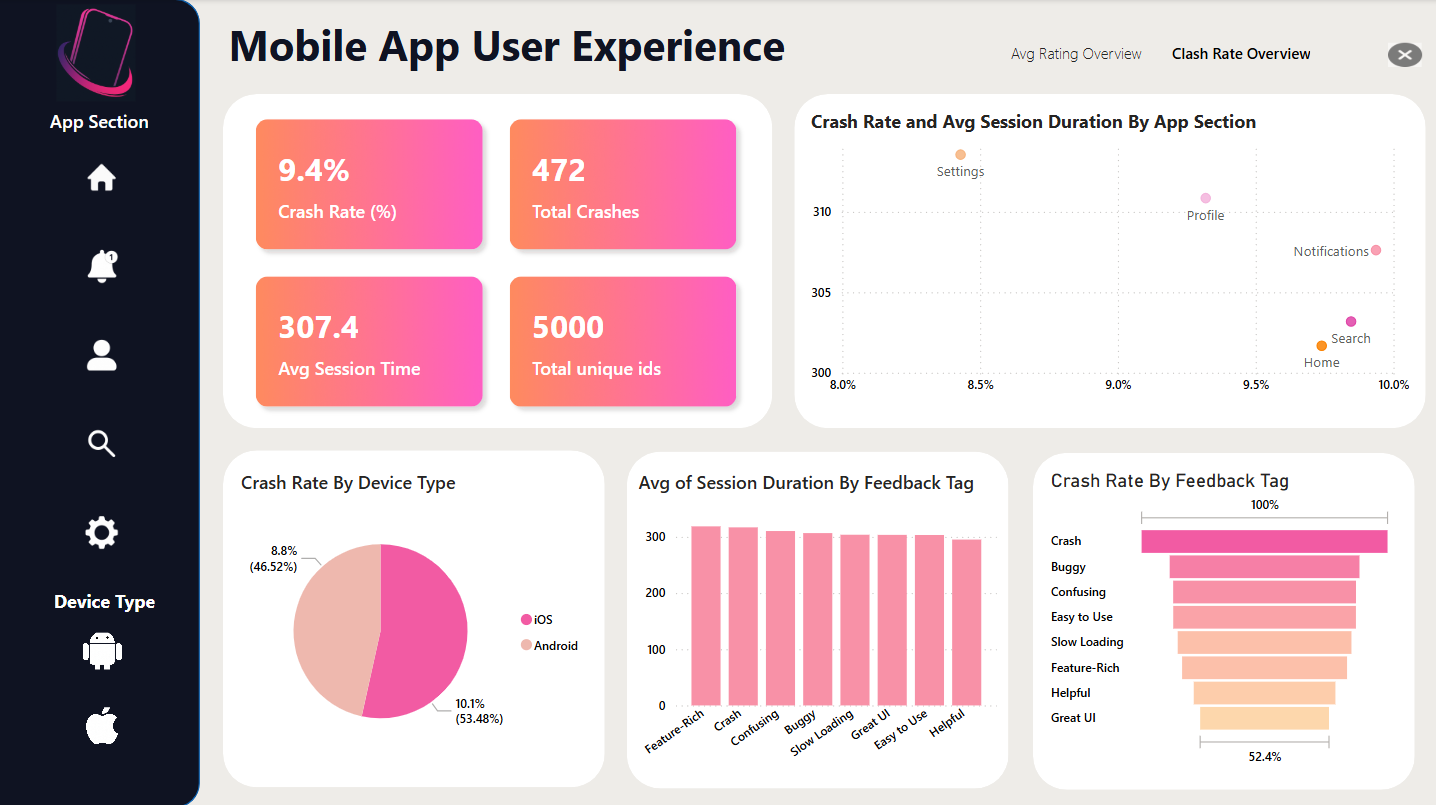

What the dashboard file says about the page in this screenshot:
{"tool":"powerbi","page":{"name":"Clash Rate Overview","canvas":[1280,720],"ordinal":1},"visuals":[{"type":"shape","box":[559.8,403,340.2,300.4],"z":0},{"type":"shape","box":[200.3,401.7,340.2,300.4],"z":1000},{"type":"shape","box":[200.3,84.5,489.8,298],"z":2000},{"type":"shape","box":[0,0,179.8,720.2],"z":3000},{"type":"image","box":[0,0,174.9,96.5],"z":4000},{"type":"textbox","box":[200.3,9.7,699.7,61.5],"z":5000},{"type":"cardVisual","fields":{"Data":["Data.Crash Rate (%)","Sum(Data.is_crash)","Avg(Data.session_duration_sec)","Data.total_count"]},"box":[212.3,90.5,463.3,292],"z":7000},{"type":"pieChart","title":"Crash Rate By Device Type","fields":{"Category":["Data.device_type"],"Y":["Data.Crash Rate (%)"]},"box":[211.1,418.6,319.7,267.8],"z":8000},{"type":"clusteredColumnChart","title":"Avg of Session Duration By Feedback Tag","fields":{"Y":["Avg(Data.session_duration_sec)"],"Category":["Data.feedback_tag"]},"box":[565.8,418.6,329.4,267.8],"z":9000},{"type":"shape","box":[709.4,84.5,562.2,298],"z":10000},{"type":"scatterChart","title":"Crash Rate and Avg Session Duration By App Section","fields":{"X":["Data.Crash Rate (%)"],"Category":["Data.app_section"],"Y":["Avg(Data.session_duration_sec)"]},"box":[719,96.5,542.9,264.2],"z":11000},{"type":"shape","box":[921.7,404.2,340.2,300.4],"z":12000},{"type":"funnel","title":"Crash Rate  By Feedback Tag","fields":{"Category":["Data.feedback_tag"],"Y":["Data.Crash Rate (%)"]},"box":[932.6,418.6,314.9,267.8],"z":13000},{"type":"pageNavigator","box":[891.6,29,285.9,39.8],"z":14000},{"type":"advancedSlicerVisual","title":"Device Type","fields":{"Values":["Data.device_type"]},"box":[41,524.8,103.8,159.3],"z":15000},{"type":"advancedSlicerVisual","title":"App Section","fields":{"Values":["Data.app_section"]},"box":[41,96.5,103.8,419.8],"z":16000},{"type":"actionButton","box":[1237.8,38.6,30.2,21.7],"z":16001}]}

Visuals, with their boxes in screenshot pixels (x1, y1, x2, y2), scaled from the page's 1280x720 canvas onto the 1436x805 screenshot:
shape: pyautogui.locateOnScreen(628, 451, 1010, 786)
shape: pyautogui.locateOnScreen(225, 449, 606, 785)
shape: pyautogui.locateOnScreen(225, 94, 774, 428)
shape: pyautogui.locateOnScreen(0, 0, 202, 804)
image: pyautogui.locateOnScreen(0, 0, 196, 108)
textbox: pyautogui.locateOnScreen(225, 11, 1010, 80)
cardVisual - Data.Crash Rate (%) x Sum(Data.is_crash): pyautogui.locateOnScreen(238, 101, 758, 428)
"Crash Rate By Device Type" pieChart: pyautogui.locateOnScreen(237, 468, 595, 767)
"Avg of Session Duration By Feedback Tag" clusteredColumnChart: pyautogui.locateOnScreen(635, 468, 1004, 767)
shape: pyautogui.locateOnScreen(796, 94, 1427, 428)
"Crash Rate and Avg Session Duration By App Section" scatterChart: pyautogui.locateOnScreen(807, 108, 1416, 403)
shape: pyautogui.locateOnScreen(1034, 452, 1416, 788)
"Crash Rate  By Feedback Tag" funnel: pyautogui.locateOnScreen(1046, 468, 1400, 767)
pageNavigator: pyautogui.locateOnScreen(1000, 32, 1321, 77)
"Device Type" advancedSlicerVisual: pyautogui.locateOnScreen(46, 587, 162, 765)
"App Section" advancedSlicerVisual: pyautogui.locateOnScreen(46, 108, 162, 577)
actionButton: pyautogui.locateOnScreen(1389, 43, 1423, 67)
